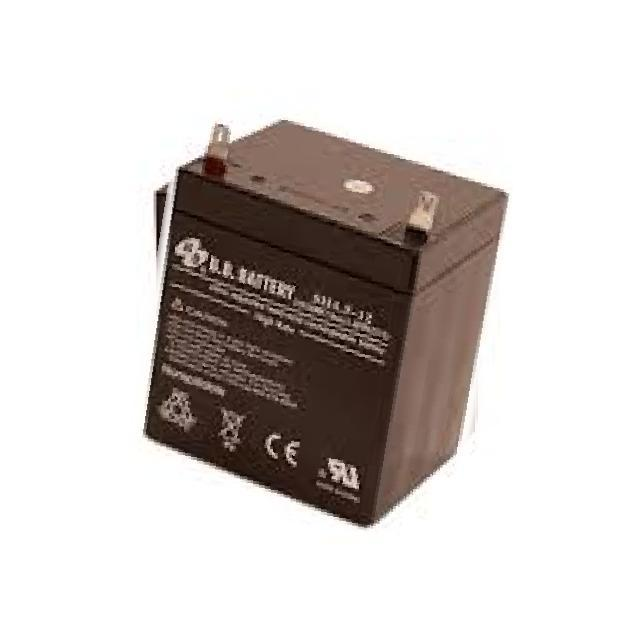Battery: (106, 90, 520, 536)
